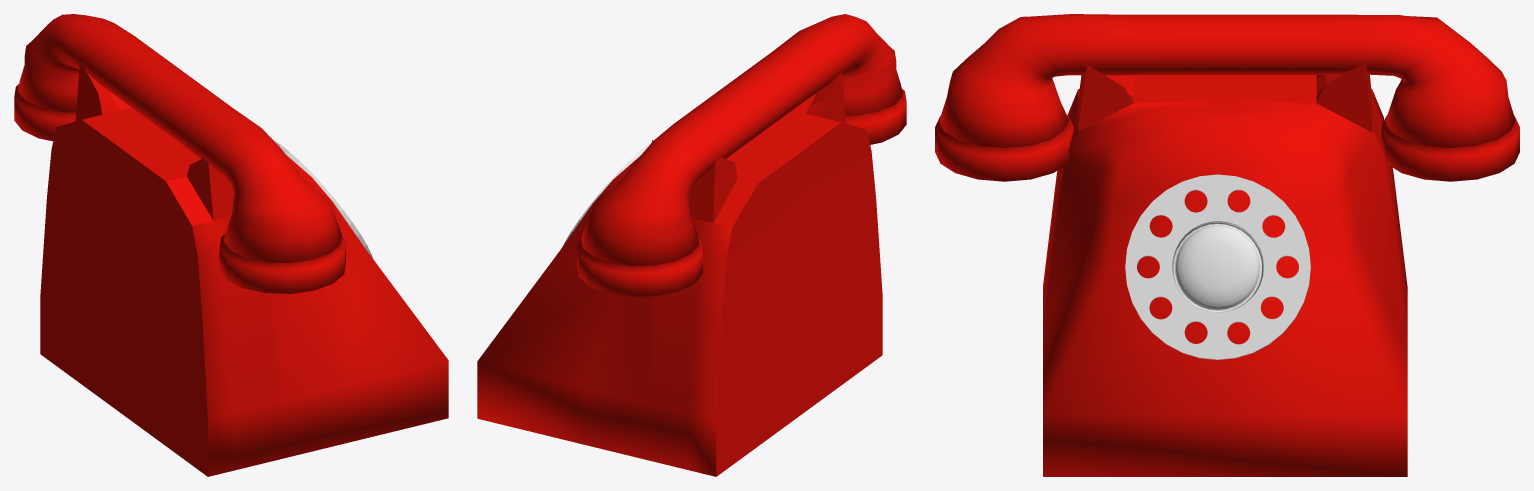
The model's file is Phone.fbx.
The picture shows the model from 3 angles, left to right: view 1: azimuth 30°, elevation 25°; view 2: azimuth 150°, elevation 25°; view 3: azimuth 270°, elevation 25°; orthographic projection. The views are drawn at different scales.
Parts seen in each view (by area): view 1: Cube, Circle.001, Circle; view 2: Cube, Circle.001; view 3: Cube, Circle.001, Circle.
Part boxes in pixels (x1,y1,x2,y2): Cube: [40, 64, 448, 476]; Circle.001: [14, 14, 345, 293]; Circle: [273, 140, 372, 258]; Cube: [477, 72, 882, 476]; Circle.001: [577, 14, 906, 296]; Cube: [1043, 63, 1407, 476]; Circle.001: [935, 14, 1519, 181]; Circle: [1125, 174, 1310, 359].
Bounding box in the file's own units: 183 × 238 × 354.
